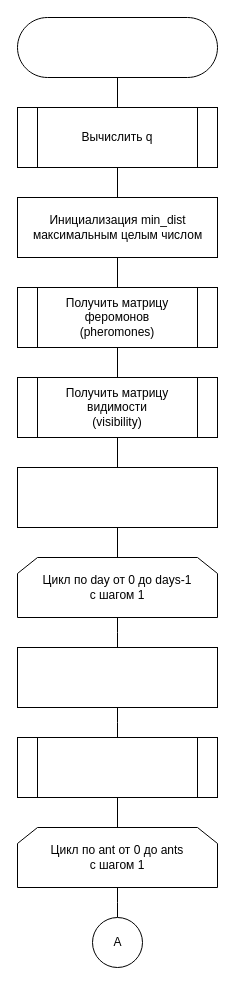
The diagram is 235 pixels wide and 985 high, and some of its shapes have lost their labels. The shapes that lost their labels are listed below. From the top down, each one's centre as x and y in pixels, then its label:
At point (117, 47): "Начало".
At point (117, 497): "ants = places (кол-во муравьев = кол-ву городов)".
At point (117, 677): "Инициализация текущего пути route = [города от 0 до places]".
At point (117, 767): "Инициализация массив посещенных городов (visited) для каждого муравья".
